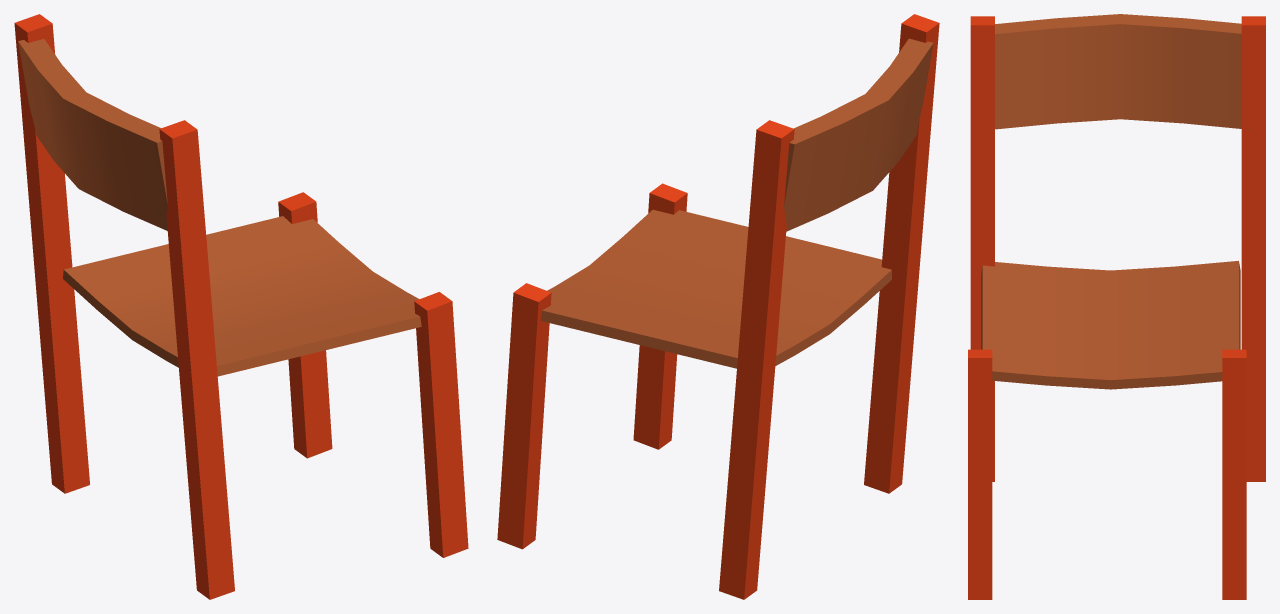
File: OutsideChair.fbx
3 views of the same model, side by side, from view 1: azimuth 30°, elevation 25°; view 2: azimuth 150°, elevation 25°; view 3: azimuth 270°, elevation 25° (orthographic). The views are drawn at different scales.
Parts seen in each view (by area): view 1: OutsideChair; view 2: OutsideChair; view 3: OutsideChair.
Part boxes in pixels (x1,y1,x2,y2): OutsideChair: [14, 14, 468, 599]; OutsideChair: [497, 14, 939, 599]; OutsideChair: [968, 14, 1265, 599].
Bounding box in the file's own units: 0.6955 × 0.9996 × 0.5932.
